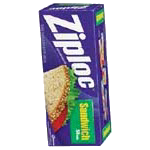grozi_28: (39, 2, 111, 145)
